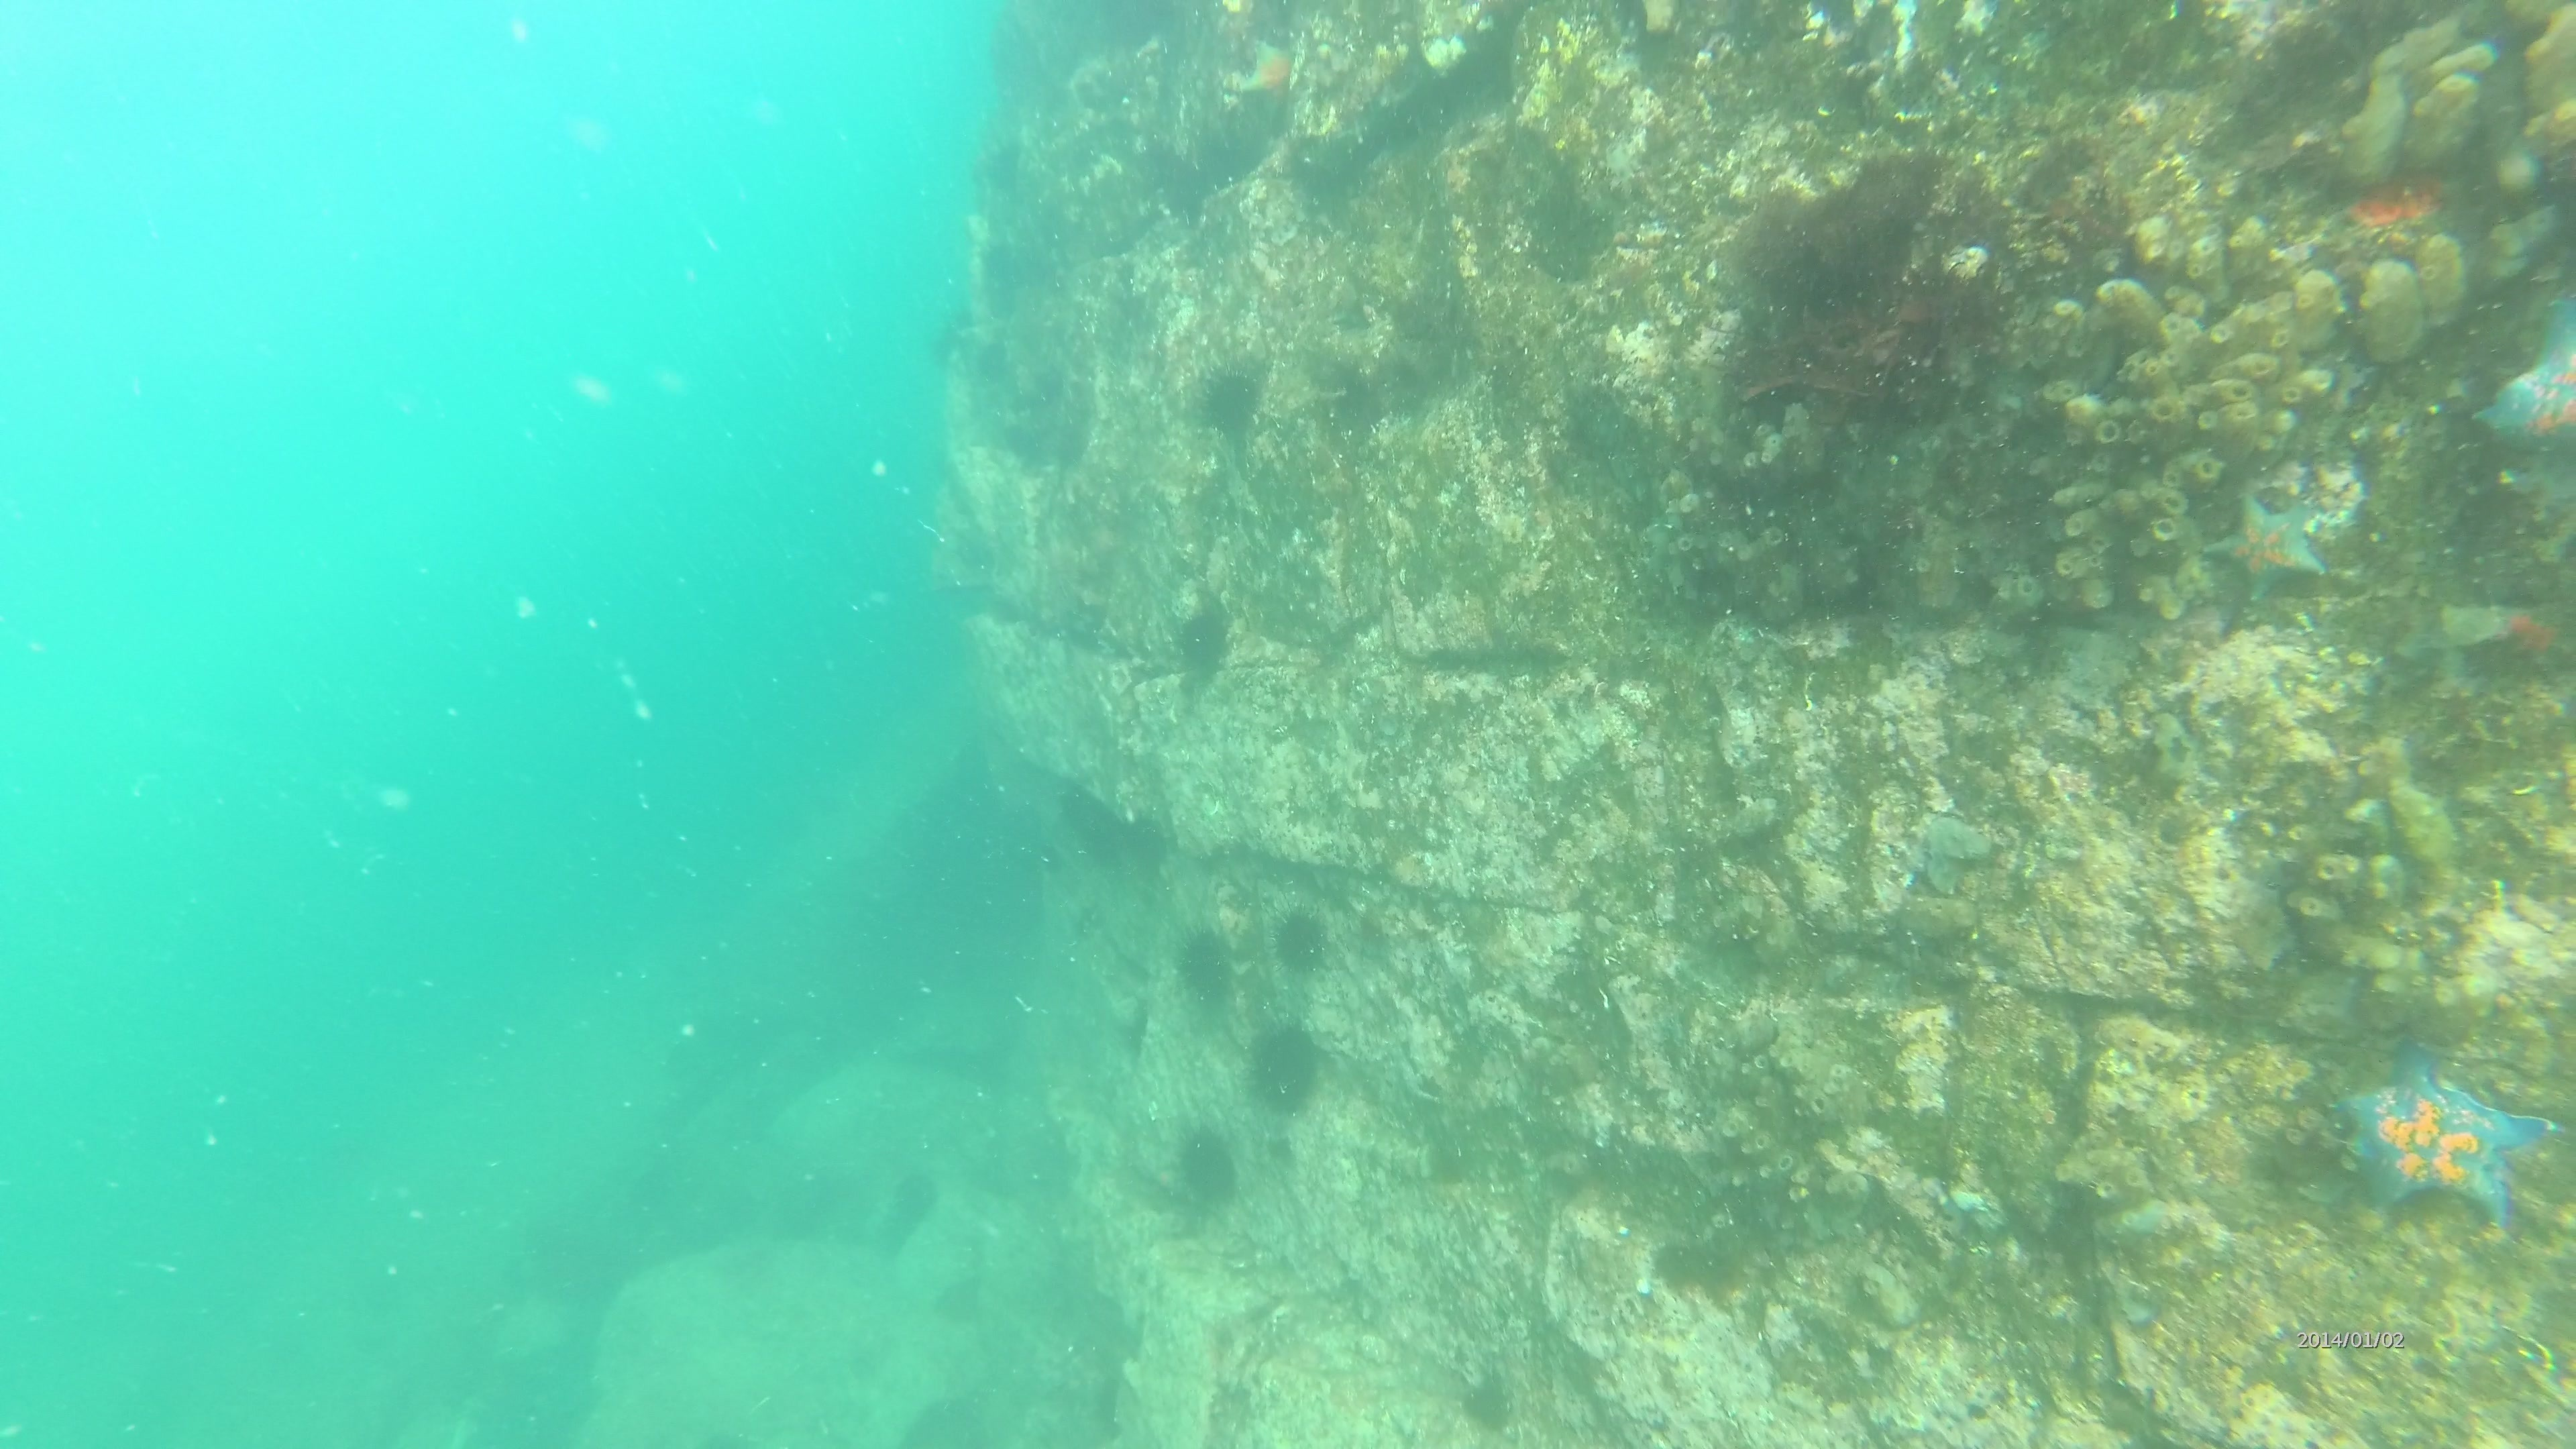echinus: (1238, 1016, 1332, 1118), (1166, 1118, 1247, 1215), (1189, 352, 1272, 446), (1168, 918, 1244, 1012), (1166, 593, 1240, 686), (1265, 901, 1339, 980)
starfish: (2327, 1037, 2557, 1235), (2470, 297, 2576, 483), (2197, 485, 2337, 614), (2472, 591, 2574, 686), (1226, 34, 1309, 108)
